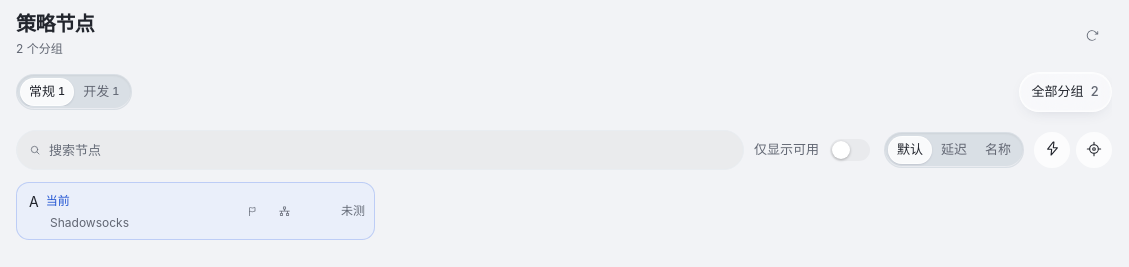
Test case: 节点页在测速按钮标明 GitHub 目标，未测不使用普通历史；两种手动结果和刷新互不污染
Later steps or results of the test are not shown.
Click the button "开发 1" at [101, 92], box [74,78,128,106]
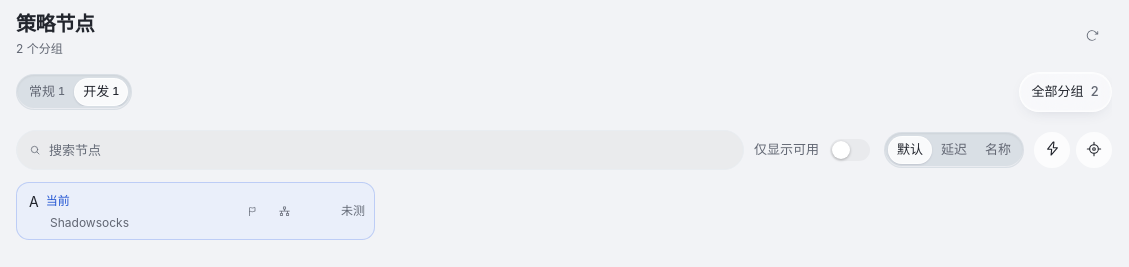
Expected: the element showing "仅显示可用 默认 延迟 名称 A 当前 Shadowsocks 未测" is shown, [16,122,1112,250]
Click the button "开发 1" at [101, 92], box [74,78,128,106]
Click the button named "开发 测速" at [1052, 150], box [1034,132,1070,168]
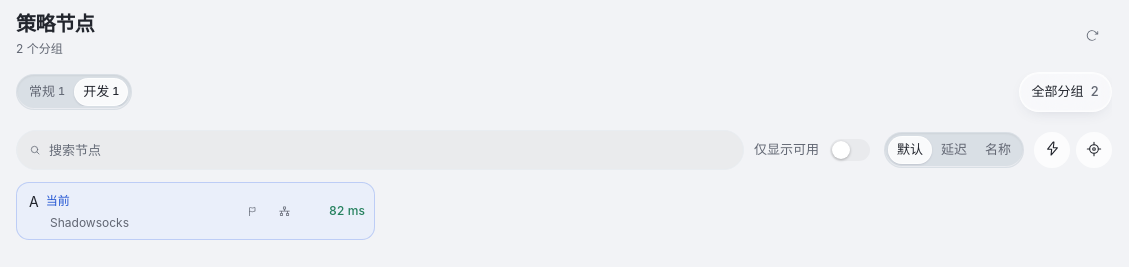
Now the element showing "仅显示可用 默认 延迟 名称 A 当前 Shadowsocks 82 ms" is shown, box [16,122,1112,250]
Click the button "常规 1" at [47, 92], box [20,78,74,106]
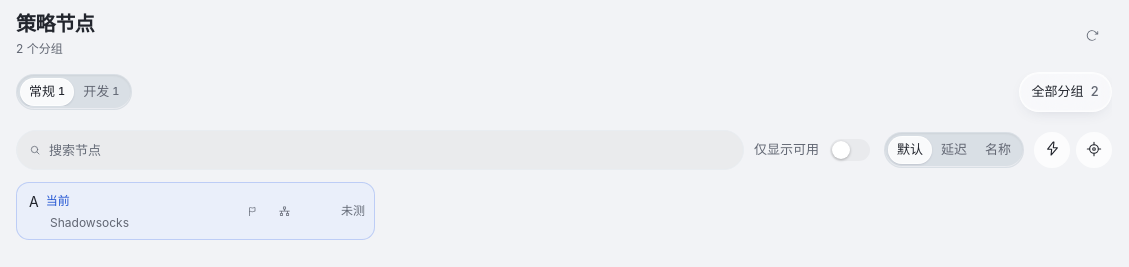
Now the text "82 ms" is gone
Click the button "常规 1" at [47, 92], box [20,78,74,106]
Click the button named "常规 测速" at [1052, 150], box [1034,132,1070,168]
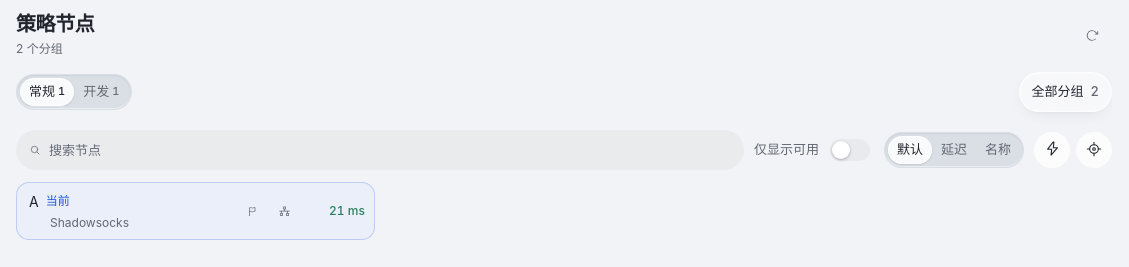
Now the element showing "仅显示可用 默认 延迟 名称 A 当前 Shadowsocks 21 ms" is shown, box [16,122,1112,250]
